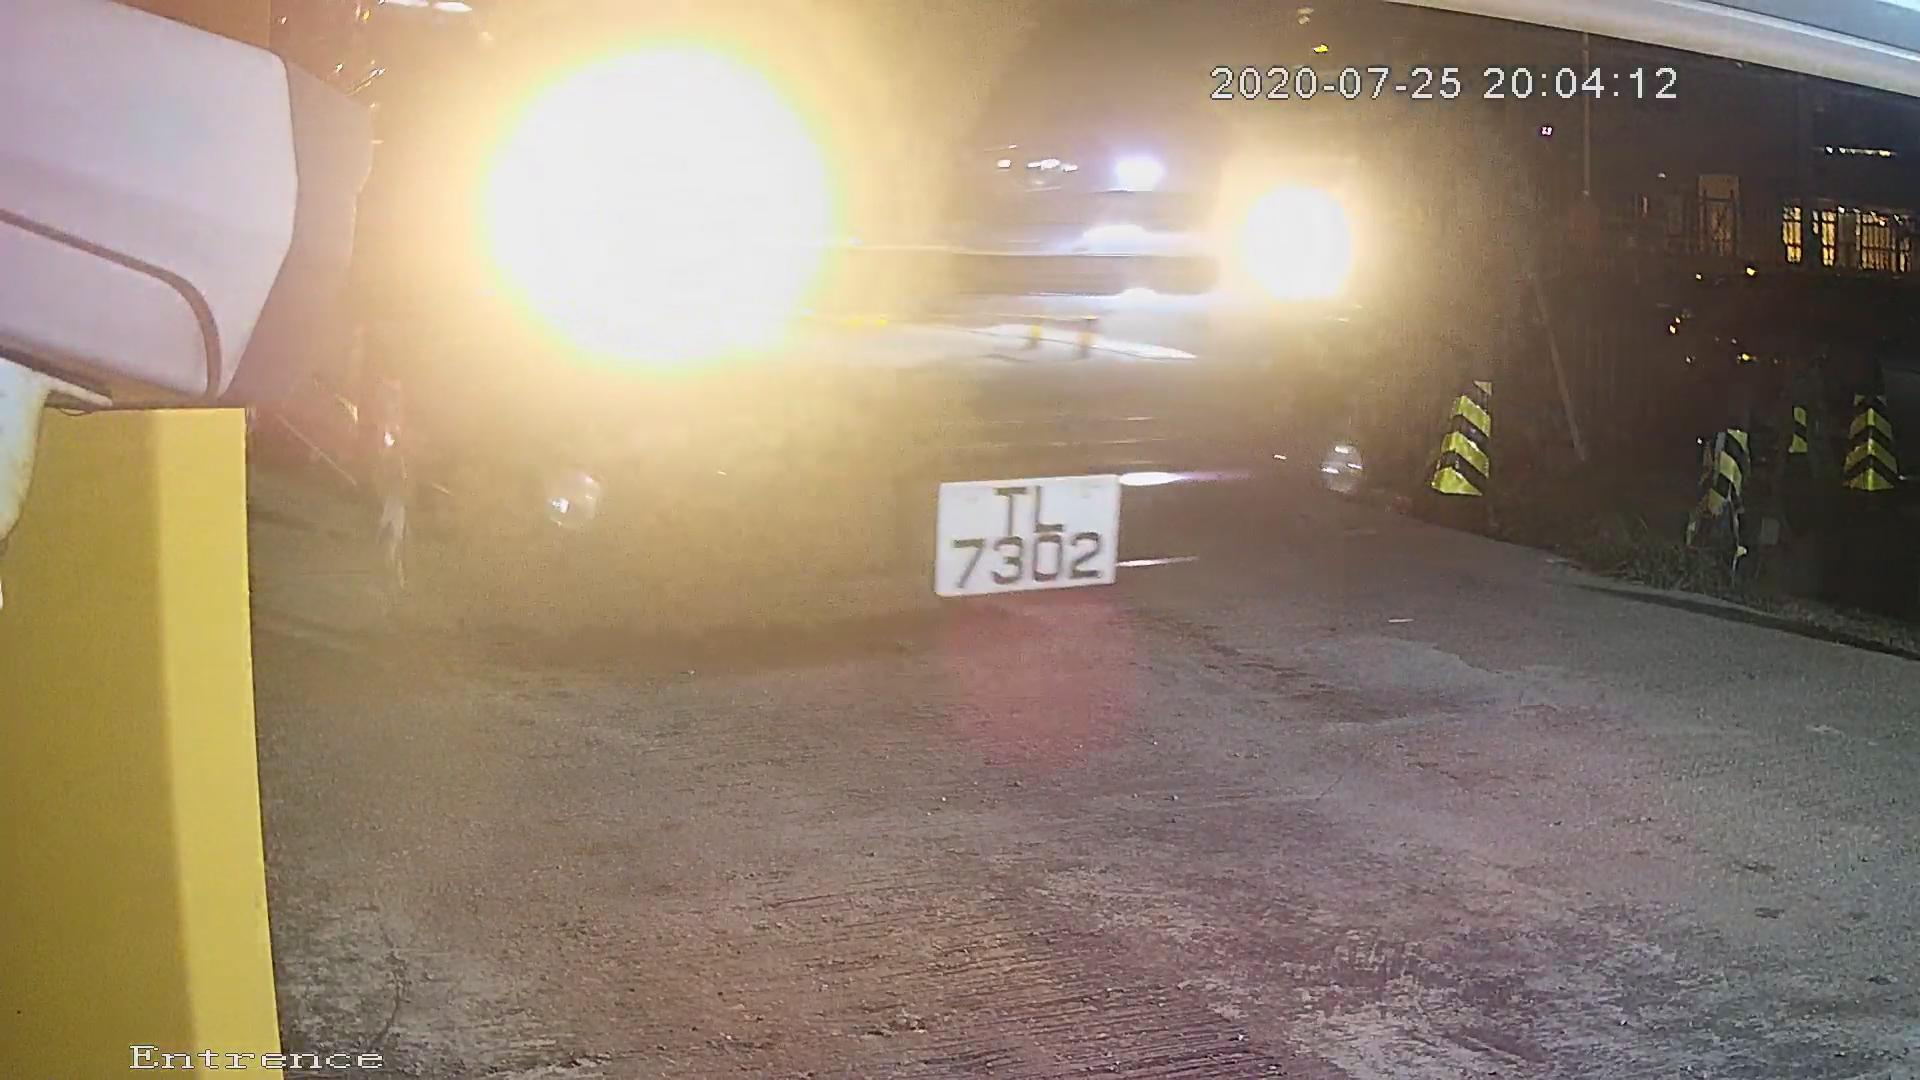privatecar: (369, 1, 1646, 637)
